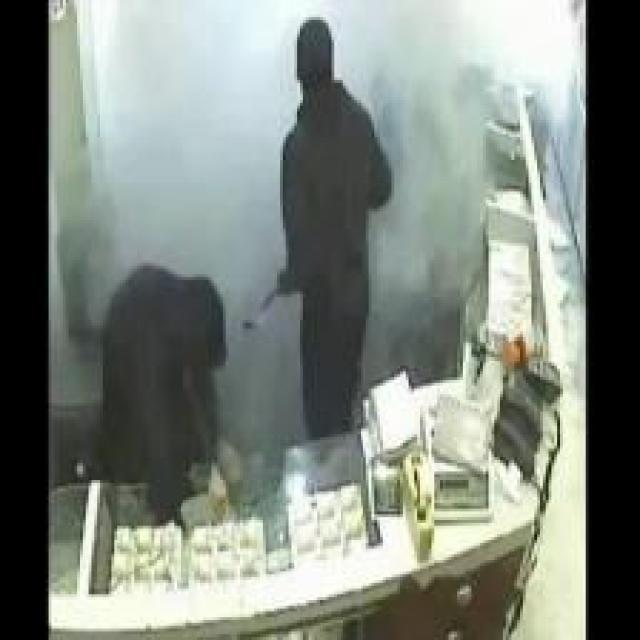fire: (91, 5, 286, 282), (372, 52, 488, 278)
